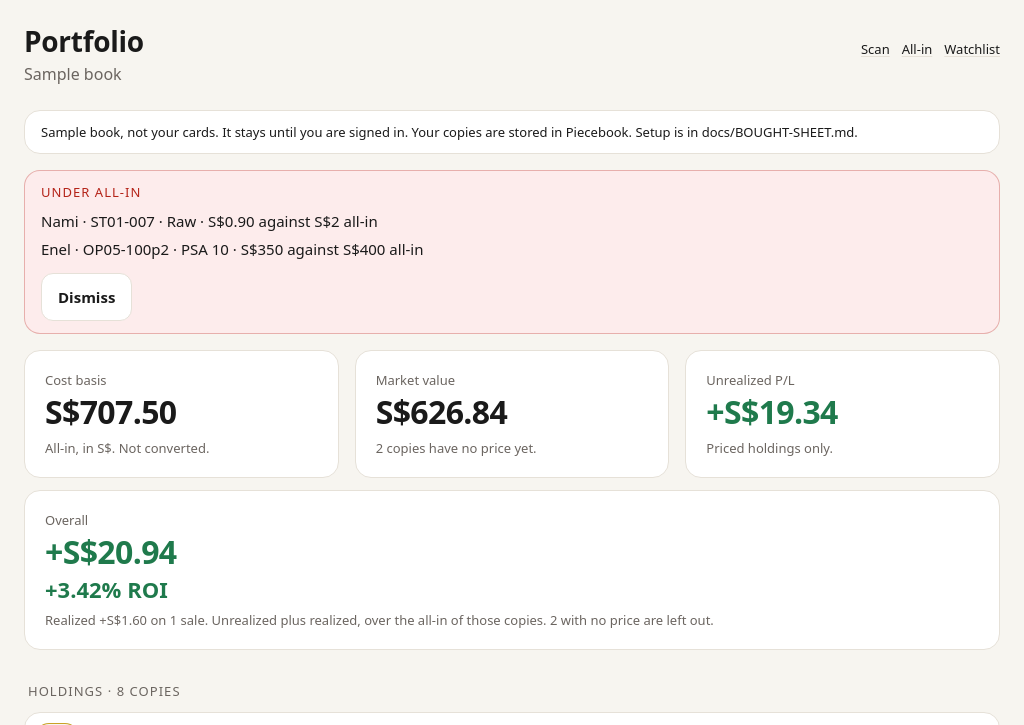
Test: Portfolio screen › dismisses an alert once and keeps the under-cost line
What coordinates should you click on to do the following:
click the button "Dismiss"
I would click on:
 (87, 297)
Its box is [41,273,132,321].
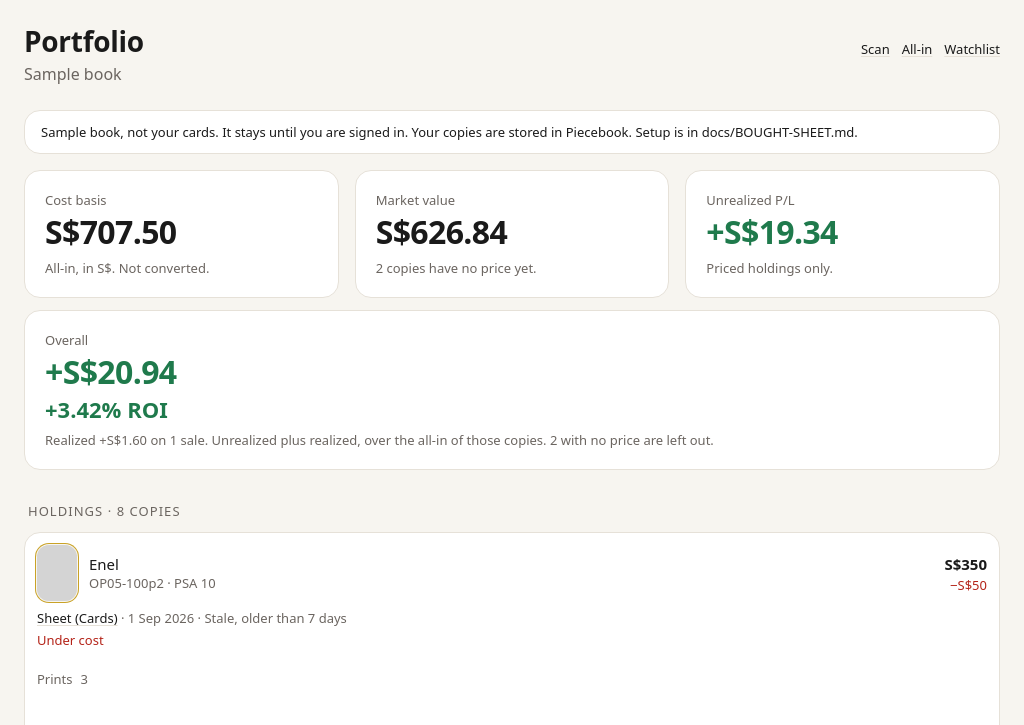
Expected: the text "Under cost" is shown, [37,631,104,649]
Expected: the text "Under all-in" is gone
